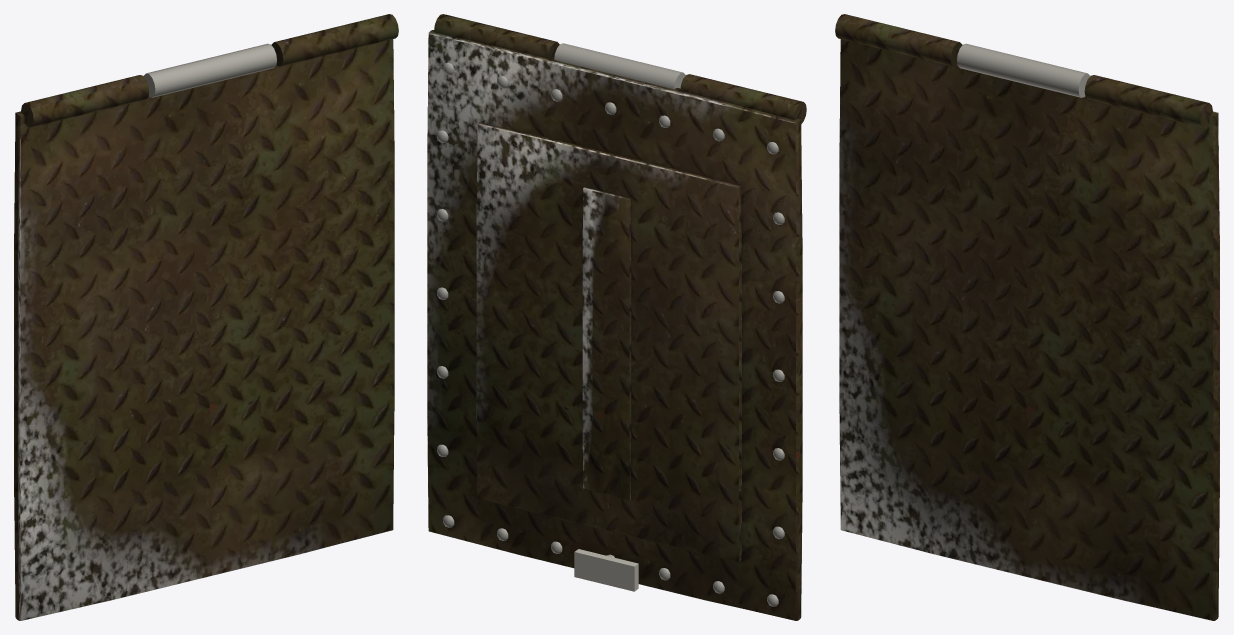
File: kryshka-rk1.glb
3 renders of one model, left to right at view 1: azimuth 30°, elevation 25°; view 2: azimuth 150°, elevation 25°; view 3: azimuth 330°, elevation 25°, orthographic.
Visible parts, largest first — view 1: kryshka_rk1; view 2: kryshka_rk1; view 3: kryshka_rk1.
Boxes of the visible parts, bbox=[...] form: kryshka_rk1: bbox=[14, 14, 398, 620]; kryshka_rk1: bbox=[427, 14, 806, 620]; kryshka_rk1: bbox=[835, 14, 1219, 620].
Size of the model in its own units: 0.31 by 0.409 by 0.032.
Materials: 3 (1 with a texture image).
